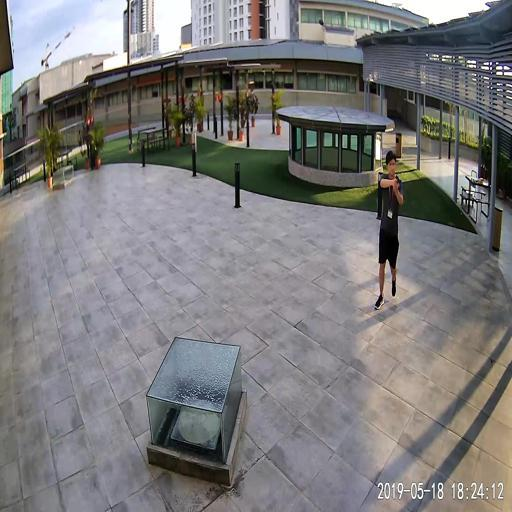Handgun: (392, 172, 399, 188)
